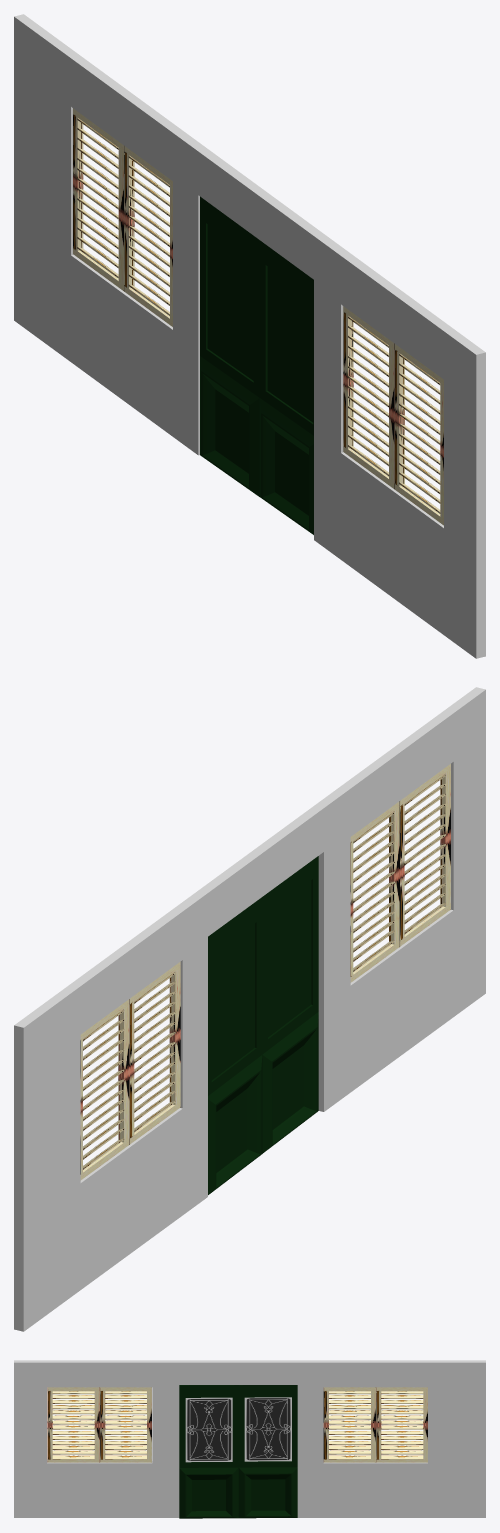
File: FrontWall.fbx
3 renders of one model, top to bottom at view 1: azimuth 30°, elevation 25°; view 2: azimuth 150°, elevation 25°; view 3: azimuth 270°, elevation 25°, orthographic. The views are drawn at different scales.
Parts seen in each view (by area): view 1: Cube.004, Main door.002, Main door.001, Window.003, Window.001, Window.002, Window; view 2: Cube.004, Main door.001, Main door.002, Window, Window.002, Window.003, Window.001; view 3: Cube.004, Main door.001, Main door.002, Window.002, Window.003, Window, Window.001.
Part boxes in pixels (bbox=[...]): Cube.004: bbox=[14, 14, 485, 658]; Main door.002: bbox=[200, 196, 259, 496]; Main door.001: bbox=[259, 240, 313, 534]; Window.003: bbox=[343, 306, 394, 488]; Window.001: bbox=[73, 108, 123, 290]; Window.002: bbox=[394, 343, 443, 525]; Window: bbox=[124, 146, 172, 326]; Cube.004: bbox=[14, 687, 485, 1331]; Main door.001: bbox=[262, 856, 318, 1153]; Main door.002: bbox=[208, 897, 262, 1194]; Window: bbox=[129, 961, 180, 1144]; Window.002: bbox=[399, 764, 450, 946]; Window.003: bbox=[350, 801, 399, 982]; Window.001: bbox=[80, 999, 129, 1180]; Cube.004: bbox=[14, 1360, 485, 1517]; Main door.001: bbox=[179, 1385, 238, 1518]; Main door.002: bbox=[238, 1385, 297, 1518]; Window.002: bbox=[47, 1387, 99, 1462]; Window.003: bbox=[99, 1387, 151, 1462]; Window: bbox=[323, 1387, 375, 1462]; Window.001: bbox=[376, 1387, 427, 1462].
Bounding box in the file's own units: 149 × 2371 × 6528.
